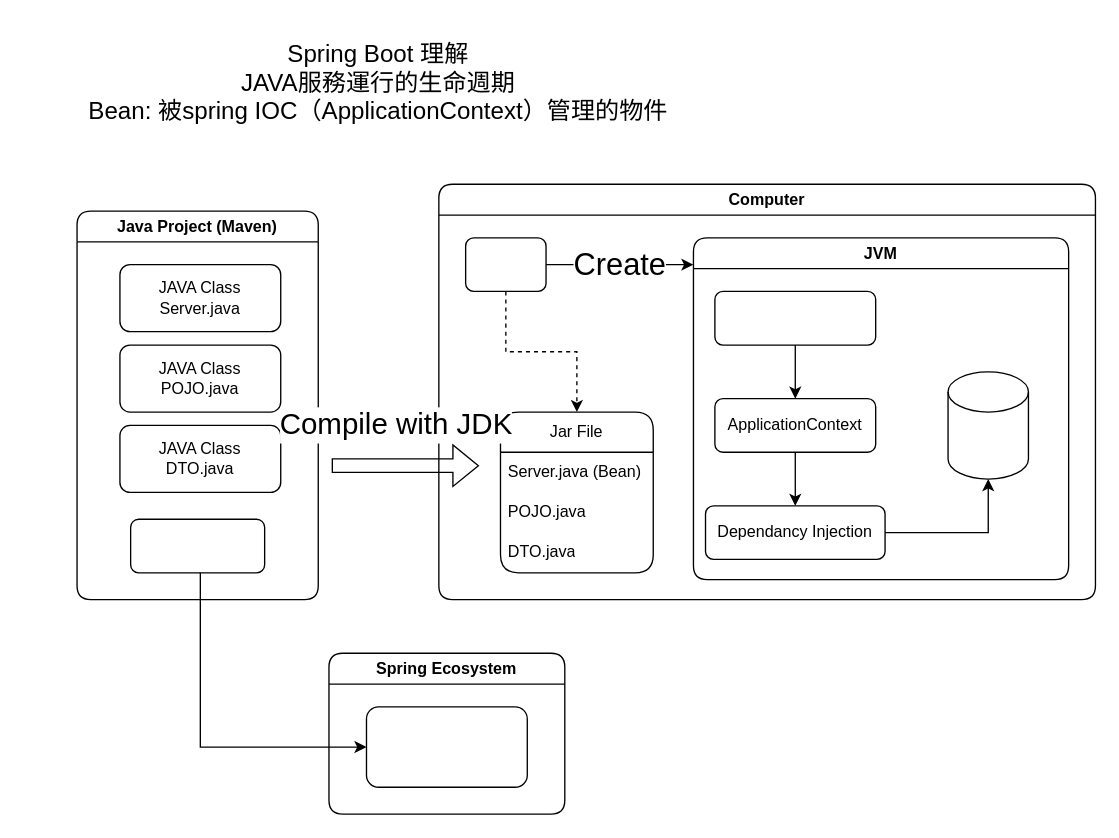
This 1119x838 diagram has some shape labels left out. Each missing label, with the centre of its shape:
Bean: (x=987, y=425)
JRE: (x=505, y=264)
pom.xml: (x=197, y=545)
Spring Boot: (x=446, y=746)
Spring Boot Start: (x=795, y=317)
